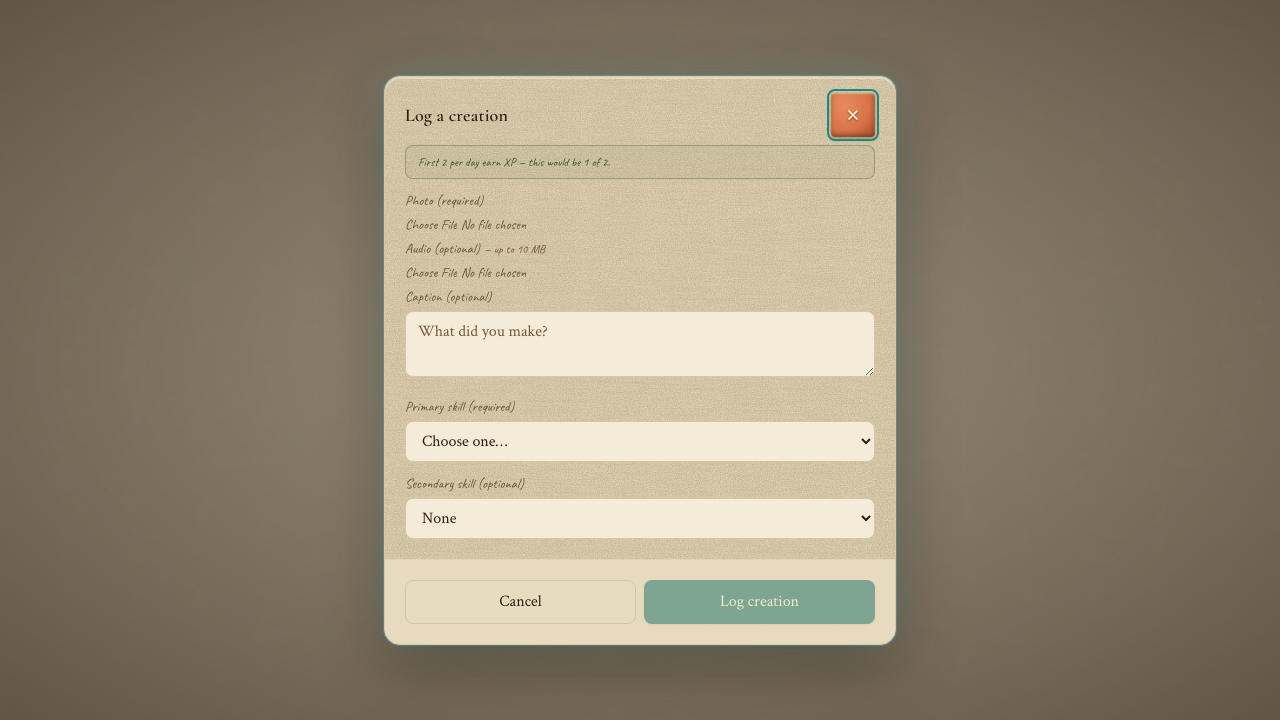
Test case: CreationLogModal › guards a filled-in form against a backdrop-tap discard
The width and height of the screenshot is (1280, 720).
Expected: the dropdown labelled "Primary skill (required)" is shown, [405, 420, 875, 462]
Type "my dragon drawing" into the text box labelled "Caption (optional)" at (640, 344), box [405, 310, 875, 376]
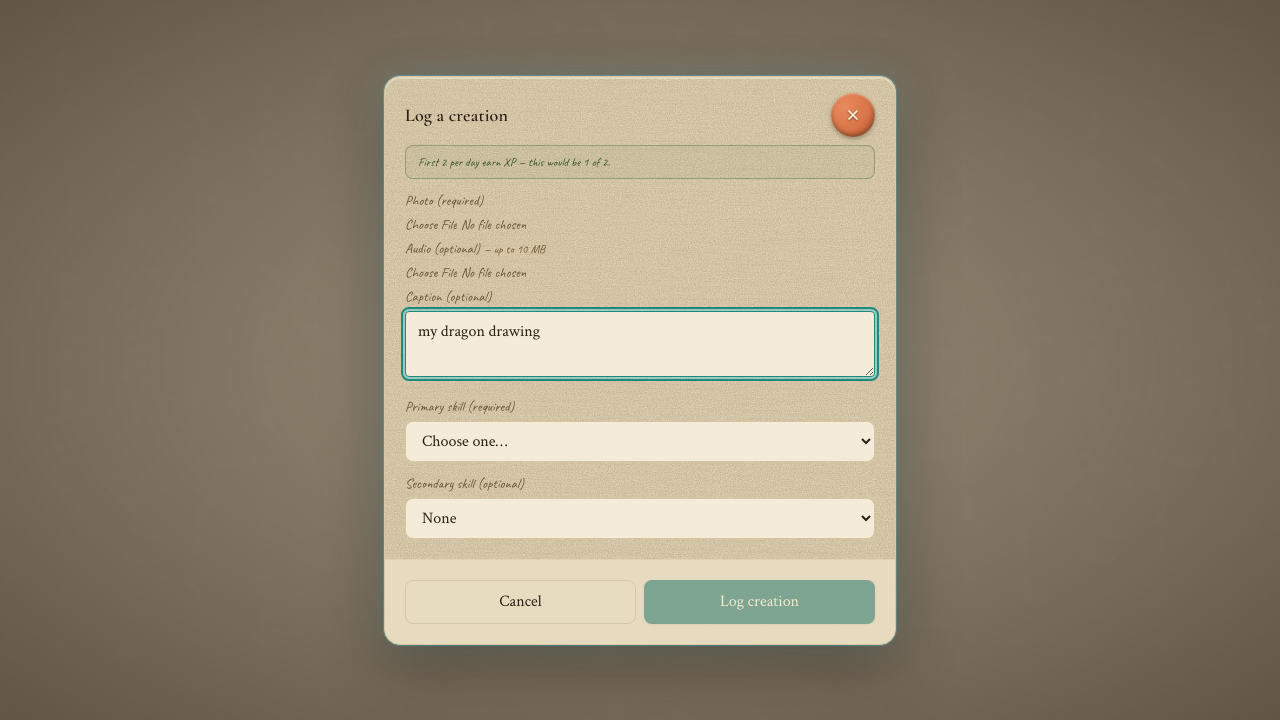
Click the element with class "modal-ink-wash" at (77, 360), box [0, 0, 1279, 719]
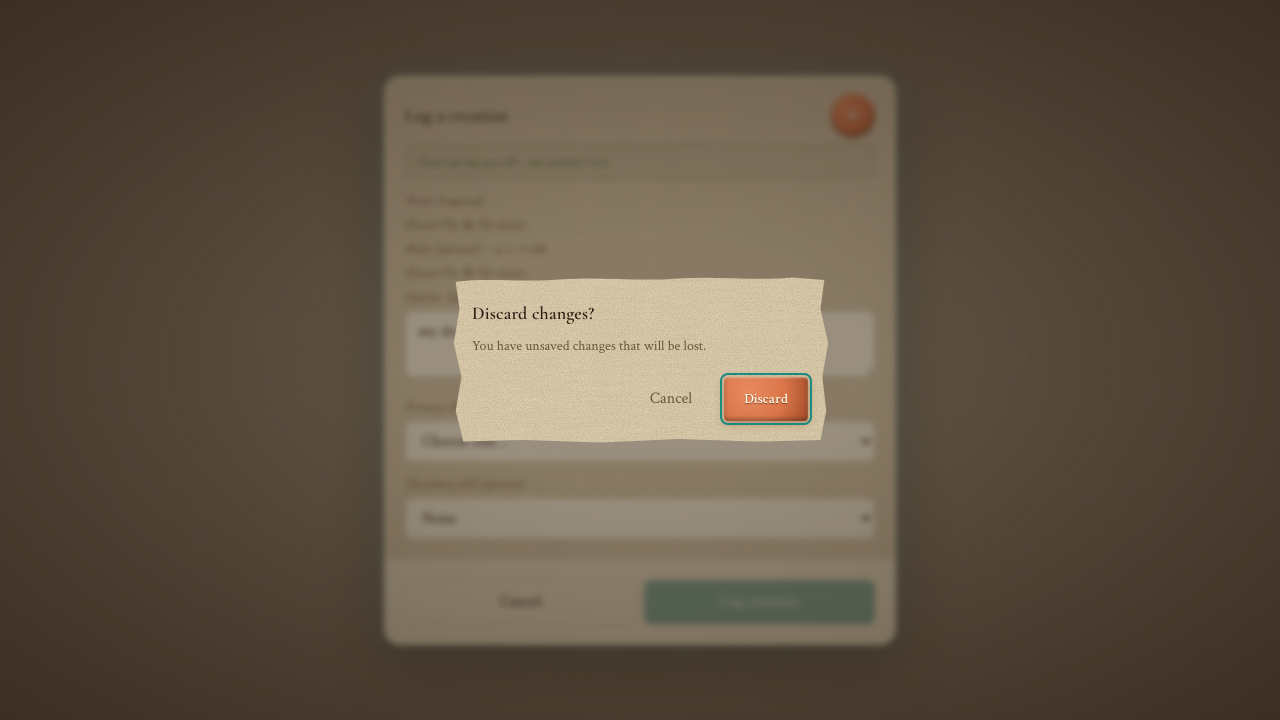
Expected: the dialog "Discard changes" is shown, [448, 275, 832, 445]
